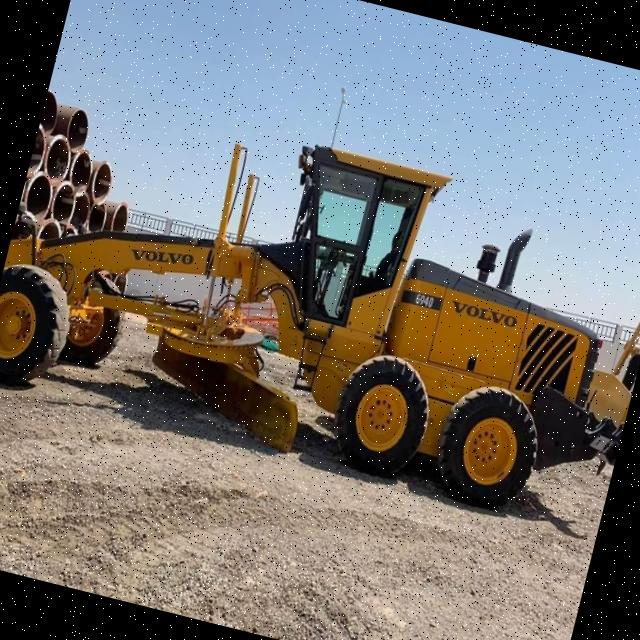Grader: (0, 66, 640, 551)
